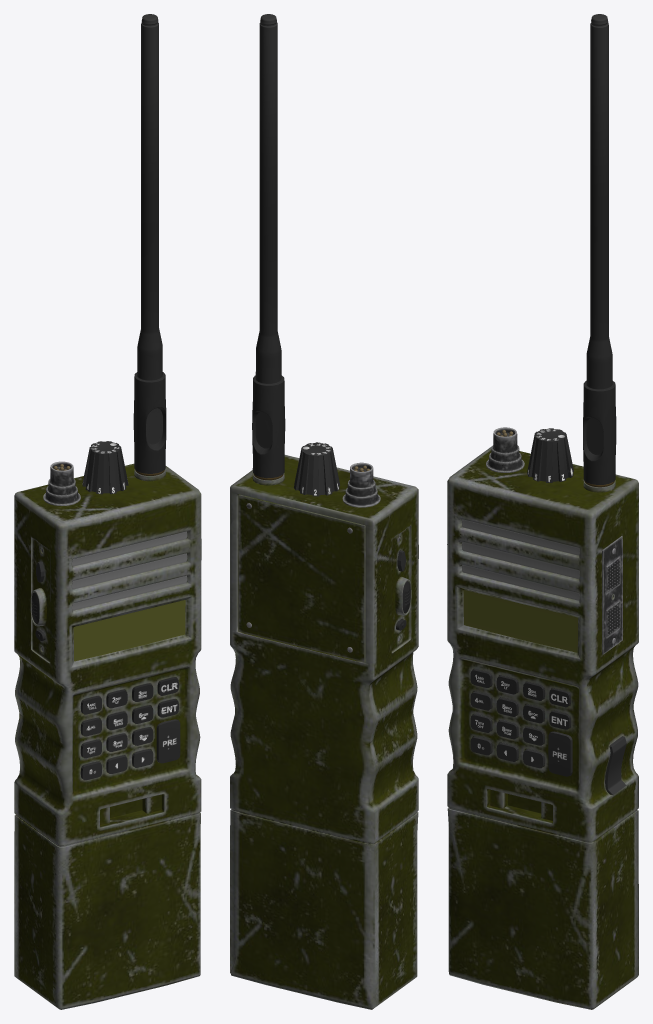
File: walkie_talkie.glb
The picture shows the model from 3 angles, left to right: view 1: azimuth 30°, elevation 25°; view 2: azimuth 150°, elevation 25°; view 3: azimuth 330°, elevation 25°; orthographic projection. The views are drawn at different scales.
Parts seen in each view (by area): view 1: g_16, g_23, g_11, g_12, g_14, g_6, g_22, g_18; view 2: g_16, g_19, g_23, g_6, g_22; view 3: g_16, g_23, g_11, g_12, g_14, g_6, g_21, g_22, g_18, g_3.
Part boxes in pixels (bbox=[...]): g_16: bbox=[14, 463, 201, 1009]; g_23: bbox=[133, 14, 166, 473]; g_11: bbox=[81, 677, 178, 780]; g_12: bbox=[73, 600, 185, 661]; g_14: bbox=[72, 531, 187, 610]; g_6: bbox=[82, 441, 128, 494]; g_22: bbox=[43, 461, 80, 505]; g_18: bbox=[156, 719, 180, 763]; g_16: bbox=[230, 455, 418, 1009]; g_19: bbox=[238, 494, 365, 662]; g_23: bbox=[252, 14, 285, 478]; g_6: bbox=[294, 442, 340, 496]; g_22: bbox=[342, 462, 380, 507]; g_16: bbox=[447, 446, 638, 1009]; g_23: bbox=[583, 14, 616, 484]; g_11: bbox=[470, 669, 570, 768]; g_12: bbox=[463, 590, 577, 652]; g_14: bbox=[462, 519, 579, 600]; g_6: bbox=[527, 428, 573, 482]; g_21: bbox=[602, 536, 622, 654]; g_22: bbox=[486, 427, 524, 472]; g_18: bbox=[548, 731, 572, 776]; g_3: bbox=[605, 736, 626, 794].
Bounding box in the file's own units: 0.5074 × 3 × 0.2734.
Materials: 7 (7 with a texture image).
